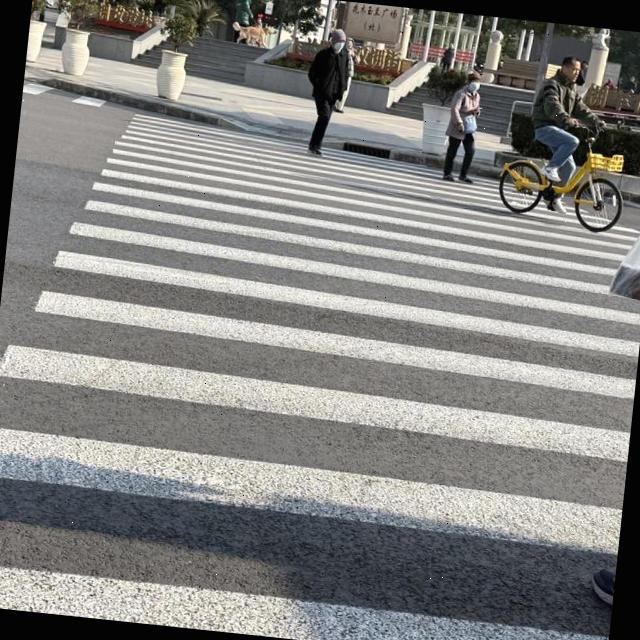curb: (23, 73, 287, 137), (329, 140, 440, 166), (472, 166, 497, 178)
